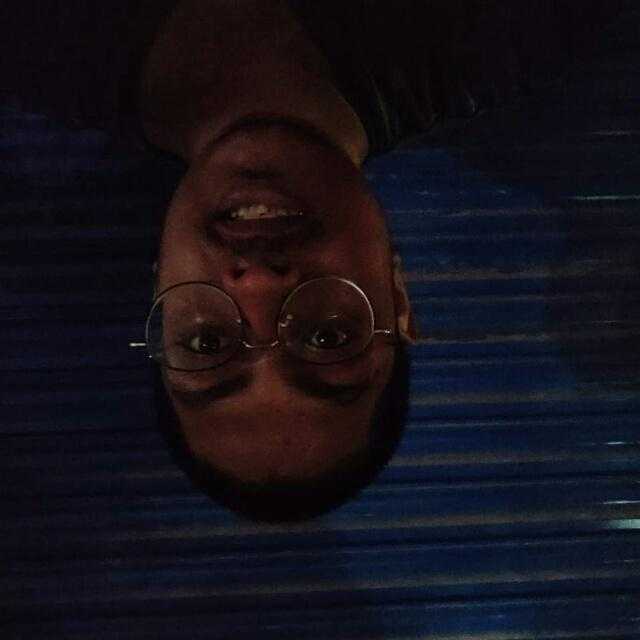angry: (120, 86, 466, 533)
